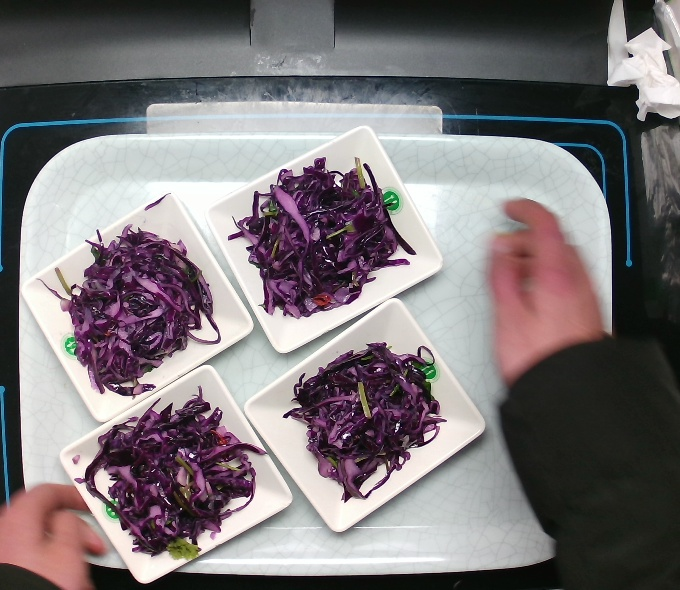wcq-ZiGanLan: (33, 189, 228, 401), (66, 383, 270, 564), (223, 149, 422, 321), (276, 336, 452, 507)
